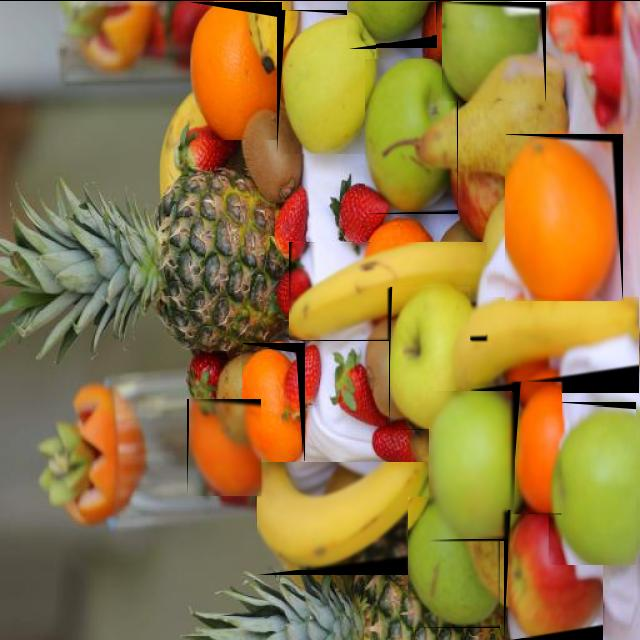0: (365, 58, 457, 211), (429, 391, 521, 537), (551, 405, 636, 563), (282, 13, 376, 152), (509, 509, 603, 637), (409, 496, 499, 626), (390, 286, 470, 428), (443, 1, 542, 100), (348, 2, 432, 42)
1: (290, 242, 486, 339), (257, 461, 431, 568), (452, 296, 639, 389)
2: (506, 136, 619, 299), (190, 5, 282, 139), (189, 398, 261, 495), (516, 381, 561, 512)
oar: (243, 347, 303, 460)
